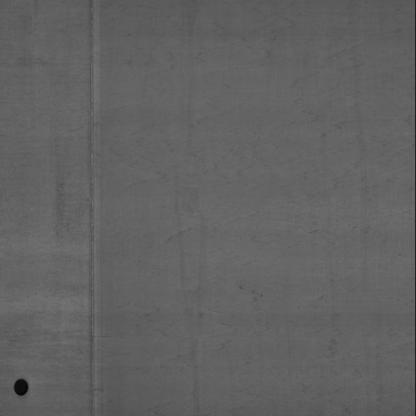punching_hole: (9, 373, 40, 399)
silk_spot: (154, 7, 410, 408)
welding_line: (80, 1, 108, 416)
